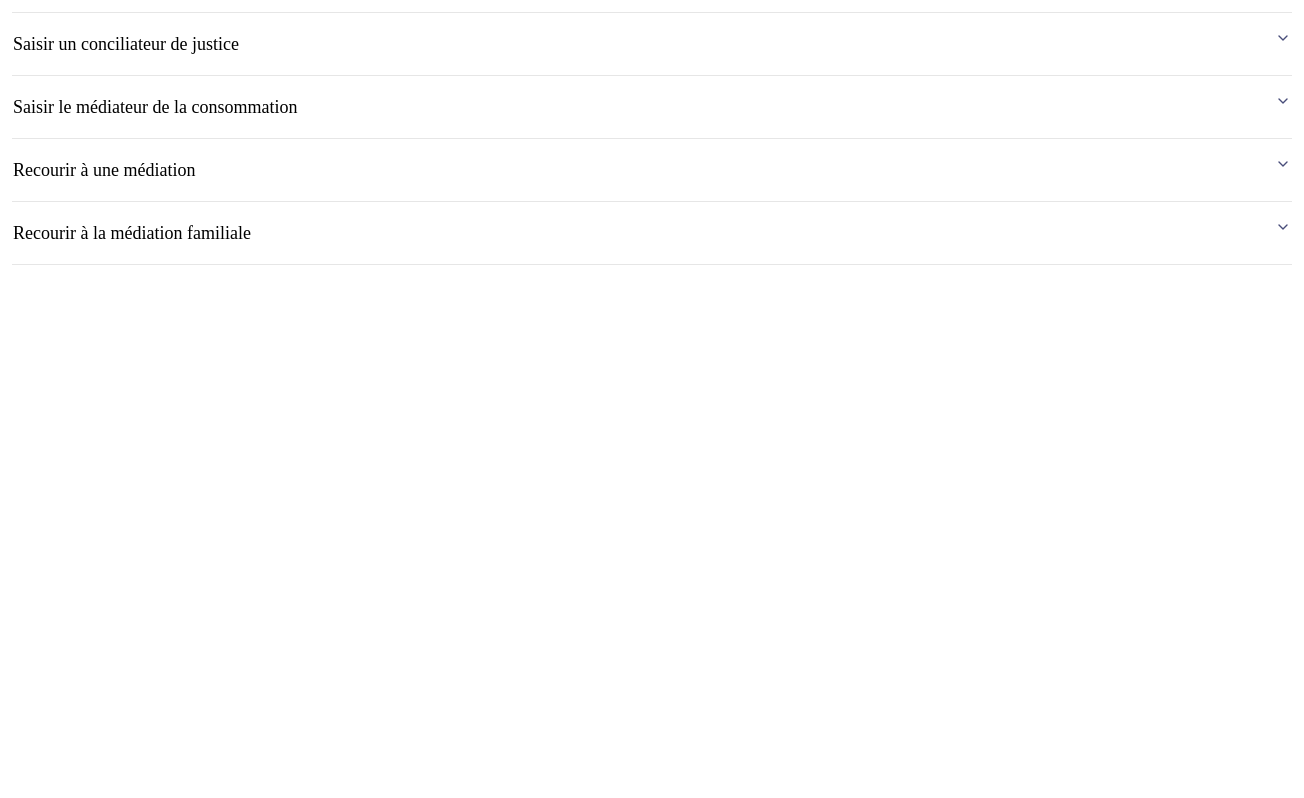
Scenario: GuideList › opens a guide on its numbered steps, tips and sources
Click the button "Saisir un conciliateur de justice" at [126, 44], box [12,13,1292,75]
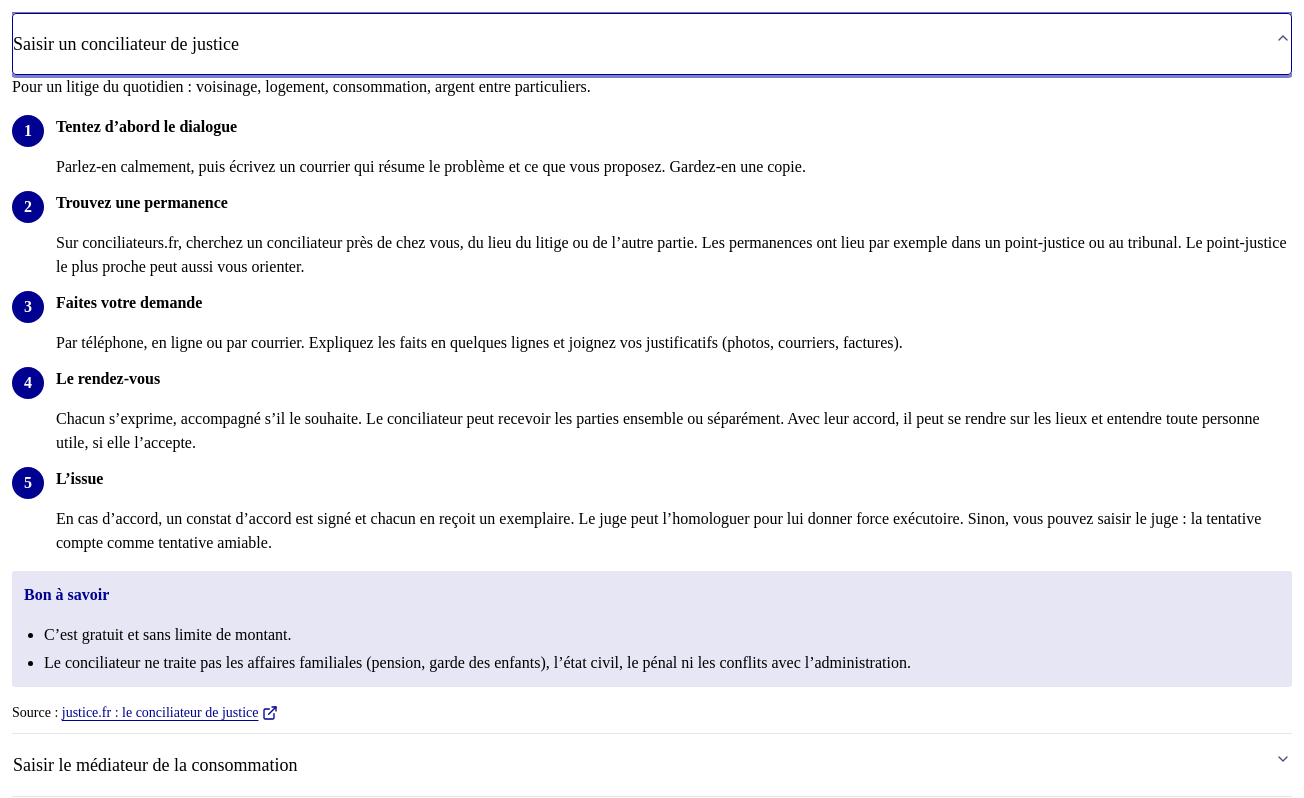
Expected: the button "Saisir un conciliateur de justice" is expanded, [12,13,1292,75]
Expected: the text "Bon à savoir" is shown, [24,586,109,603]
